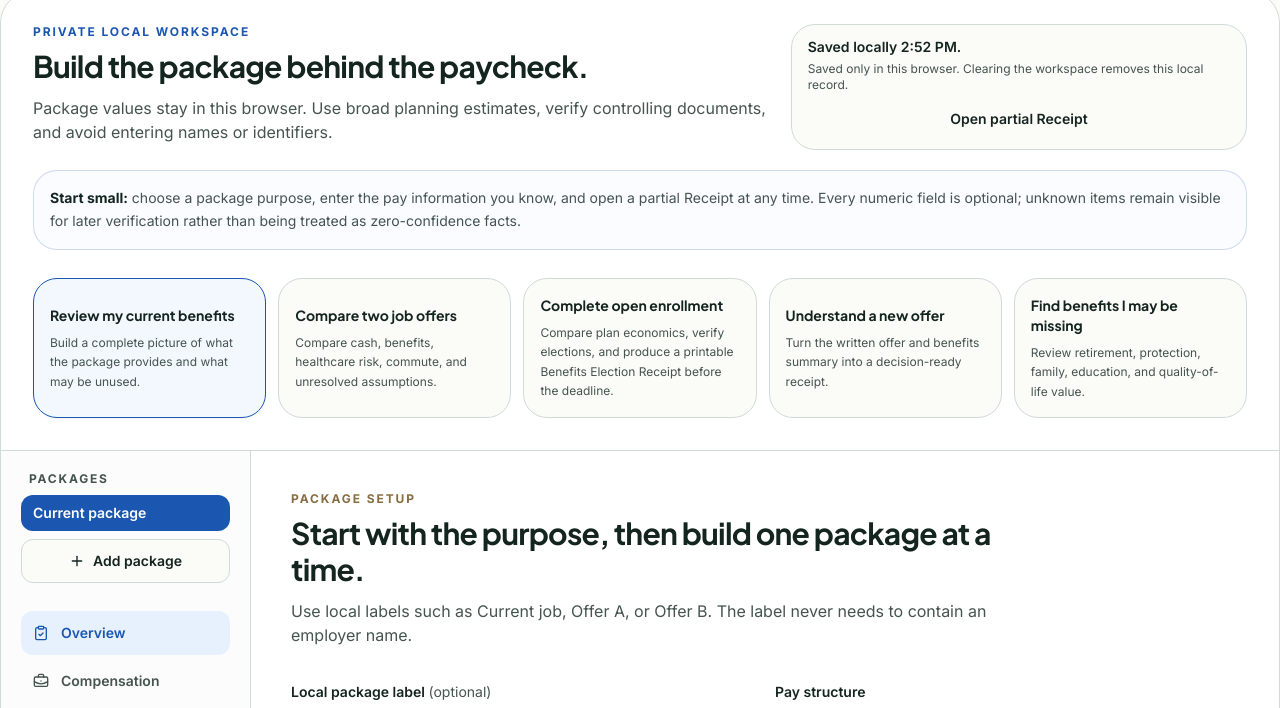
BenefitsCommandCenterWorkspace › renders the Benefits Receipt and clears the persisted local record
Click the button "Add package". click: (126,561)
box: [21,539,230,583]
(page scrolled)
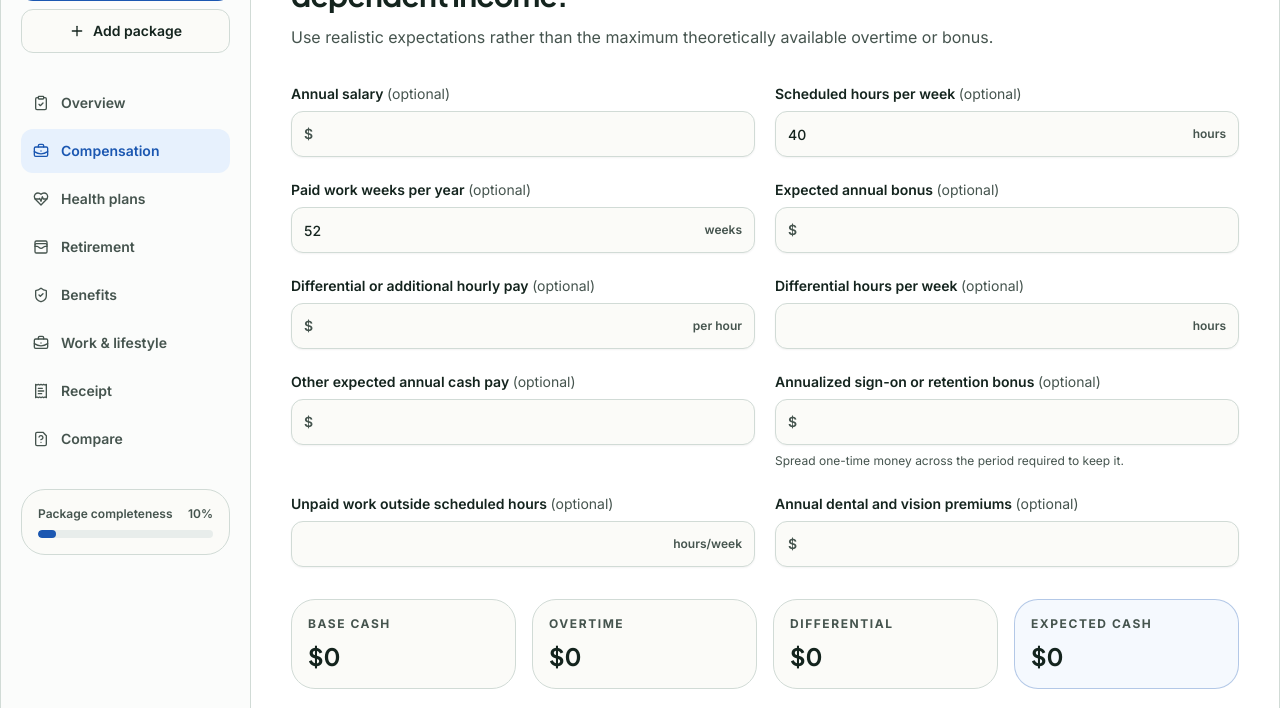
Click the button "Receipt". click: (126,391)
box: [21,369,230,413]
(page scrolled)
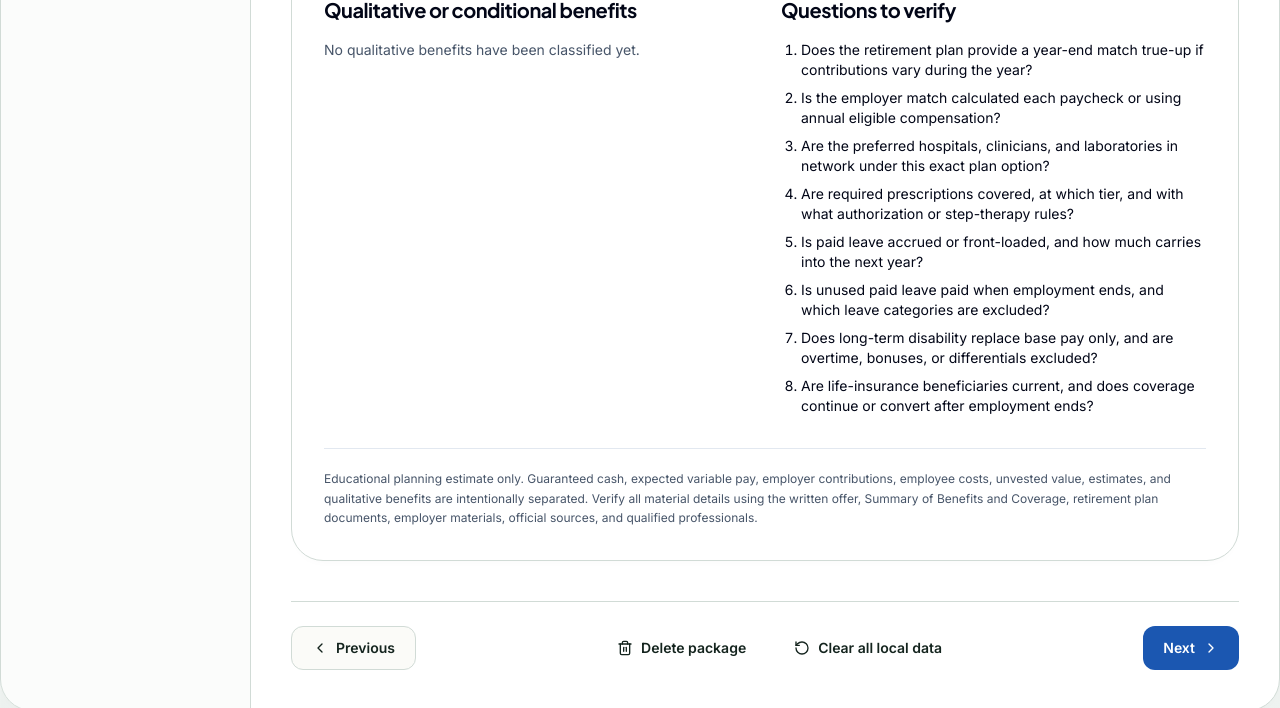
Now the text "Guaranteed cash, expected variable pay" is shown, box [324,471,1171,525]
Click the button "Clear all local data". click: (868,648)
box: [774,626,962,670]
(page scrolled)
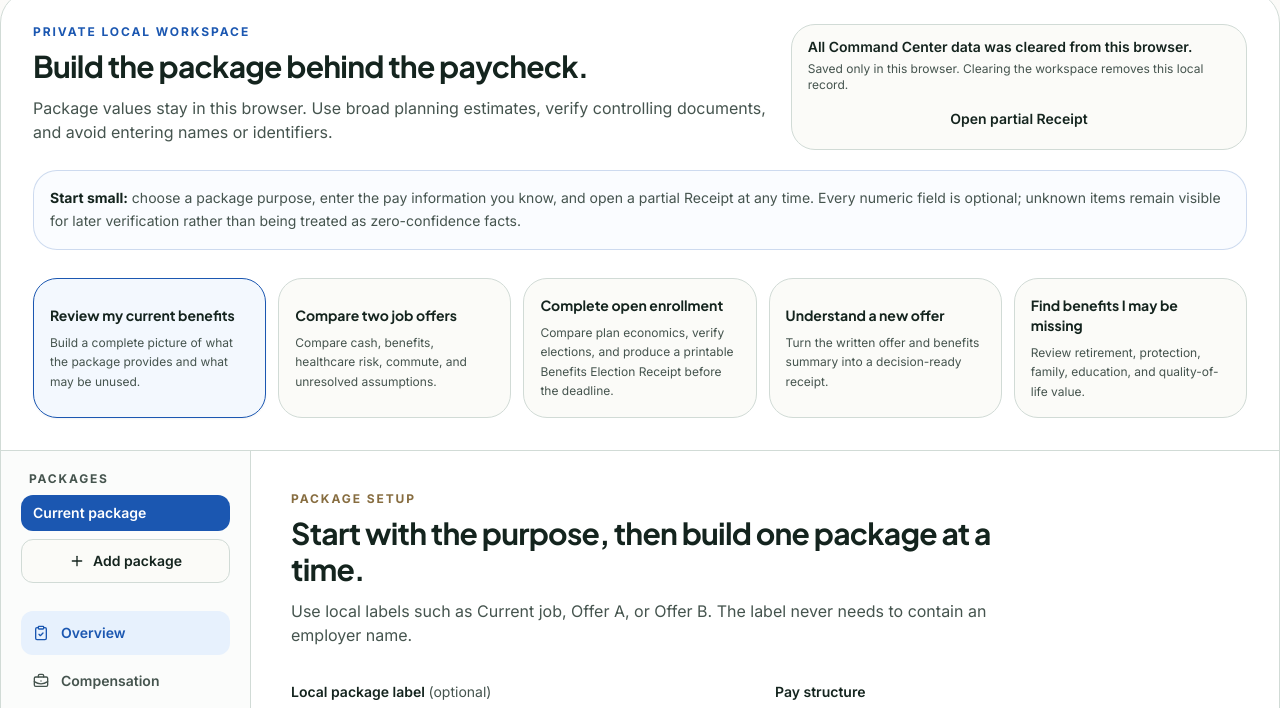
Now the text "All Command Center data was cleared from this browser." is shown, box [808,37,1230,57]
